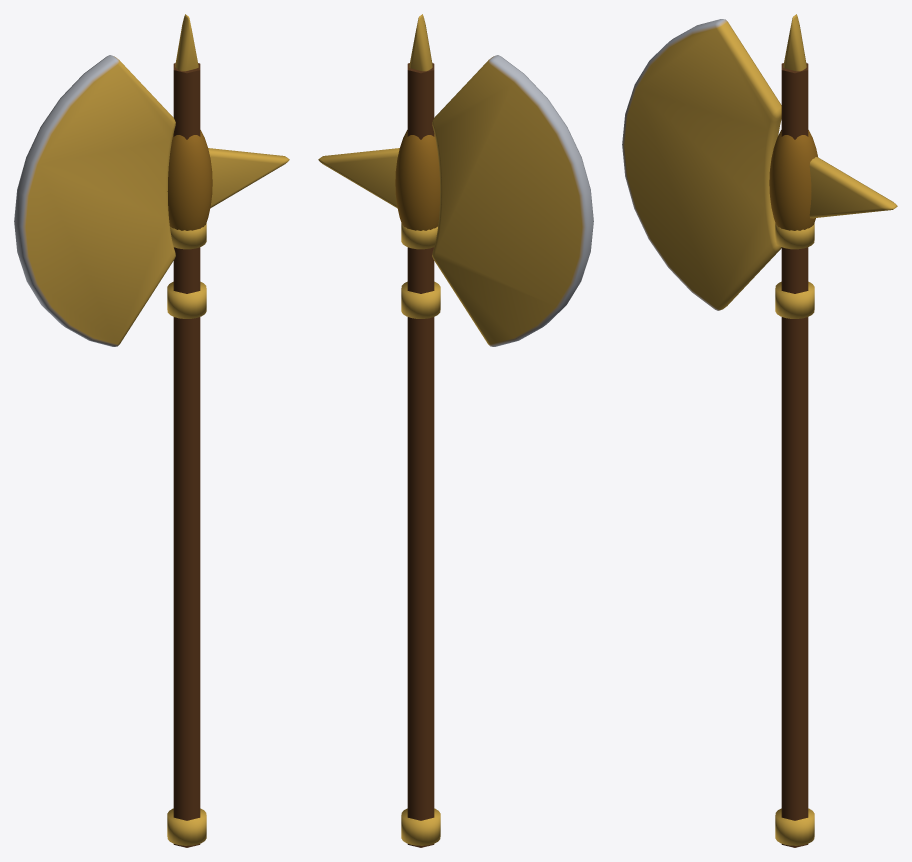
Rendered from axe.glb.
3 views of the same model, side by side, from view 1: azimuth 30°, elevation 25°; view 2: azimuth 150°, elevation 25°; view 3: azimuth 330°, elevation 25° (orthographic).
Visible parts, largest first — view 1: axe; view 2: axe; view 3: axe.
Part boxes in pixels (box(x1,y1,x2,y2)): axe: box(14, 14, 289, 847); axe: box(318, 14, 593, 847); axe: box(622, 14, 897, 847).
Size of the model in its own units: 0.3667 by 1.07 by 0.06.
